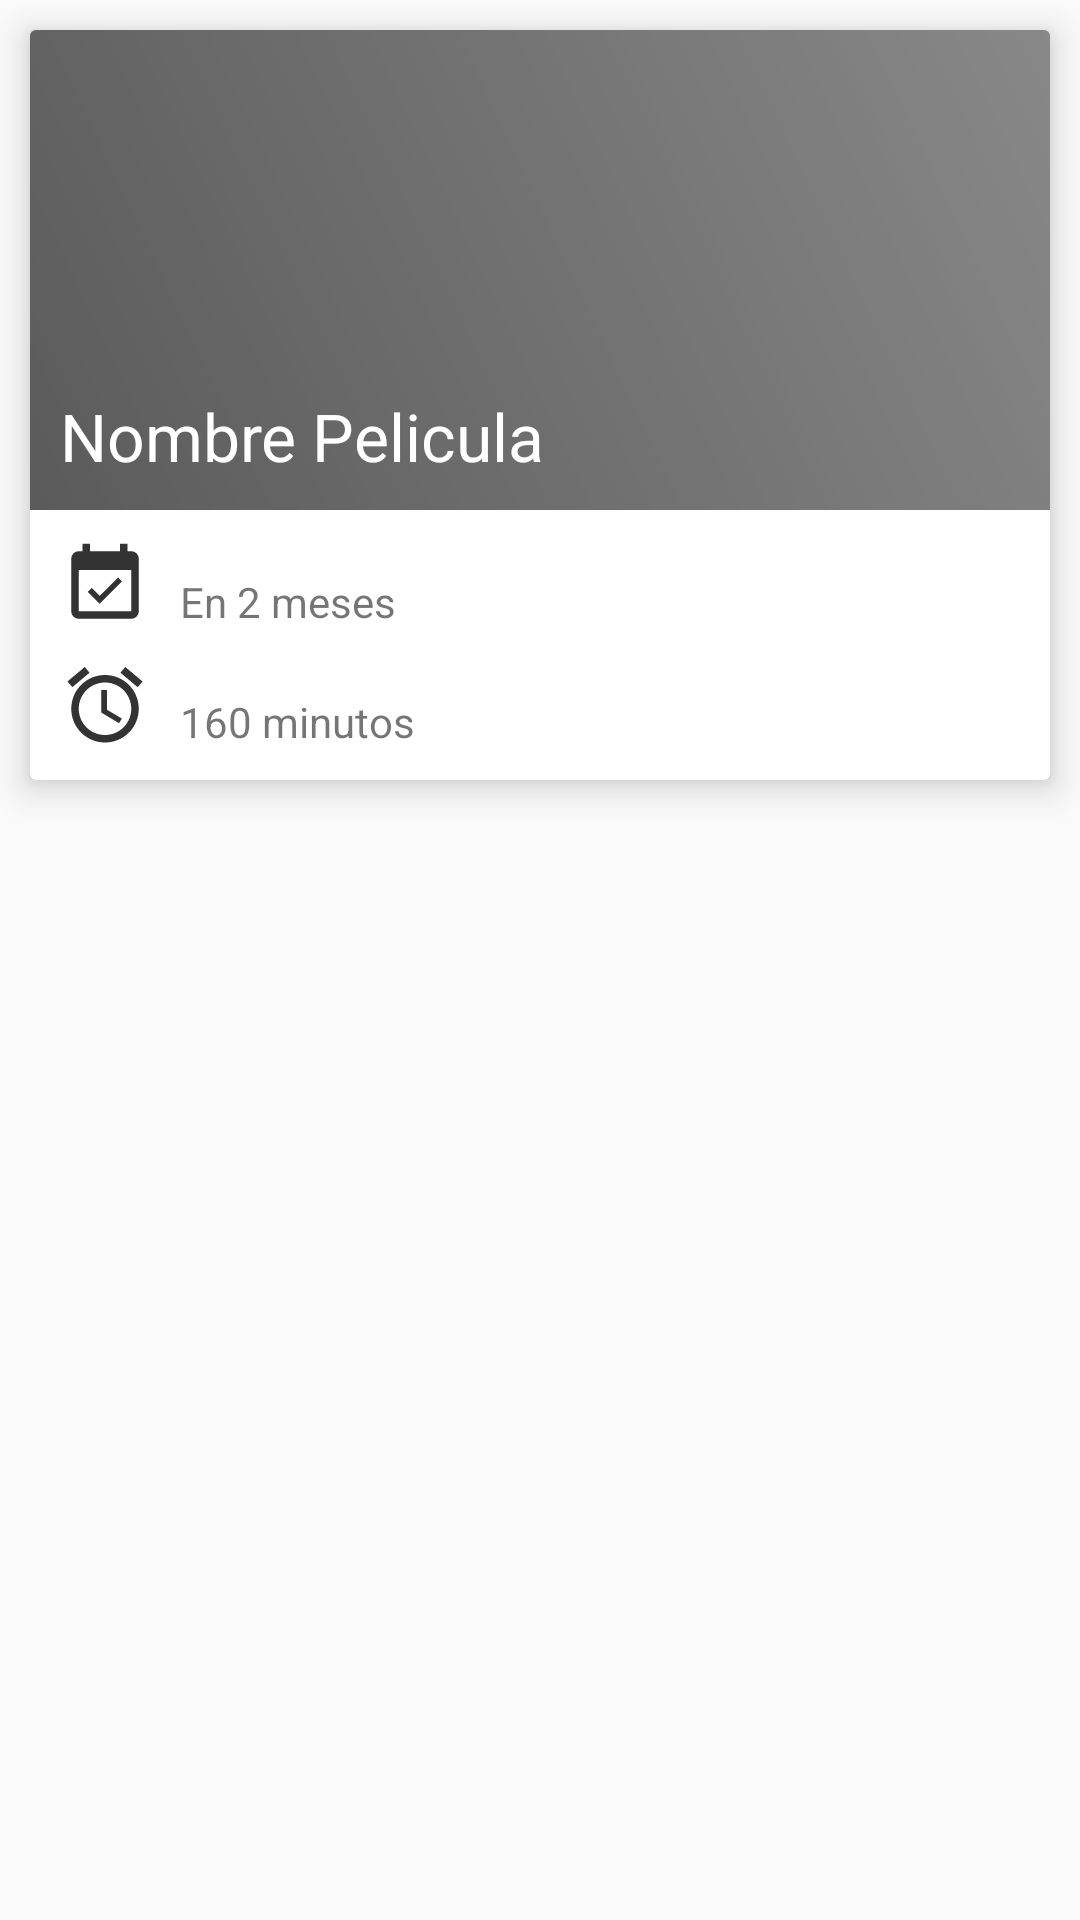

Named icons in this screenshot (1080x1920) and their bounding boxes, (x1, y1, x2, y2):
duracion: (67, 667, 143, 743)
fecha: (71, 543, 139, 619)
